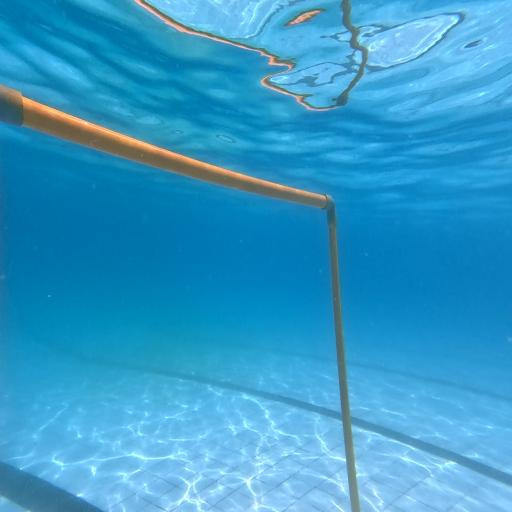gate: (0, 83, 361, 512)
